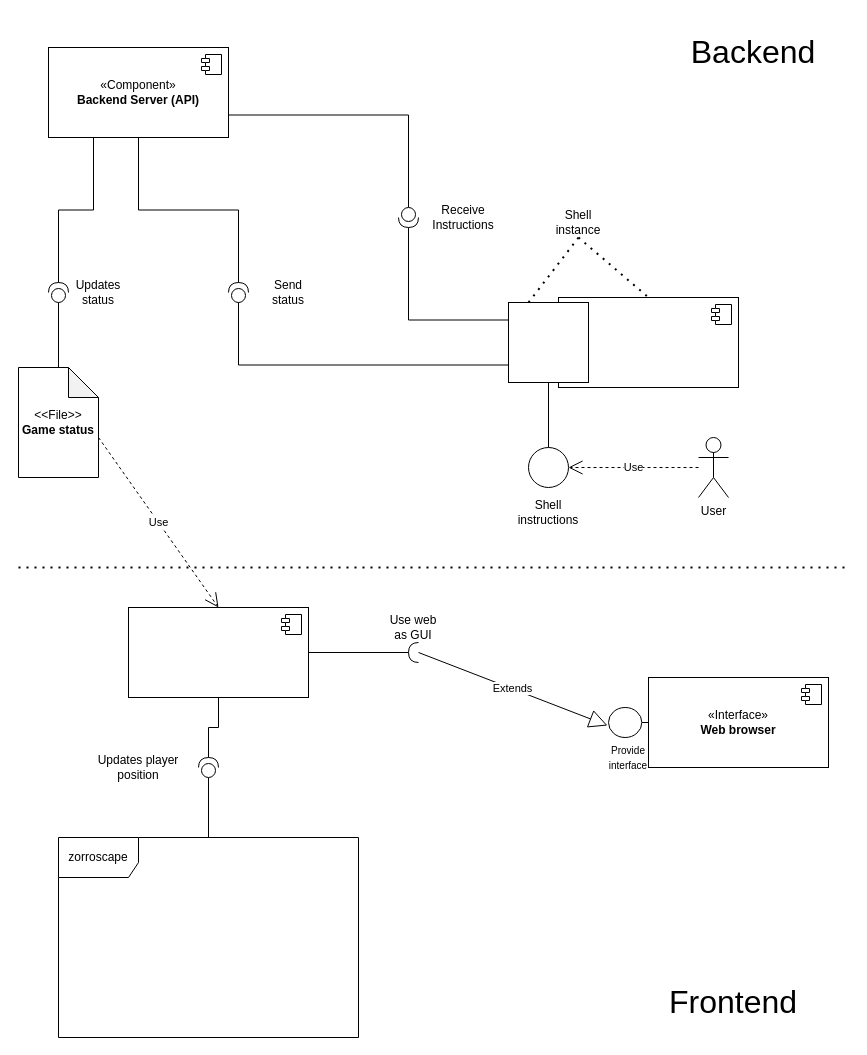
This 867x1055 diagram has some shape labels left out. Each missing label, with the centre of its shape:
Shell: the point at 548,342
«Component» Frontend Server (UI): the point at 218,652
«Component» Terminal: the point at 648,342
